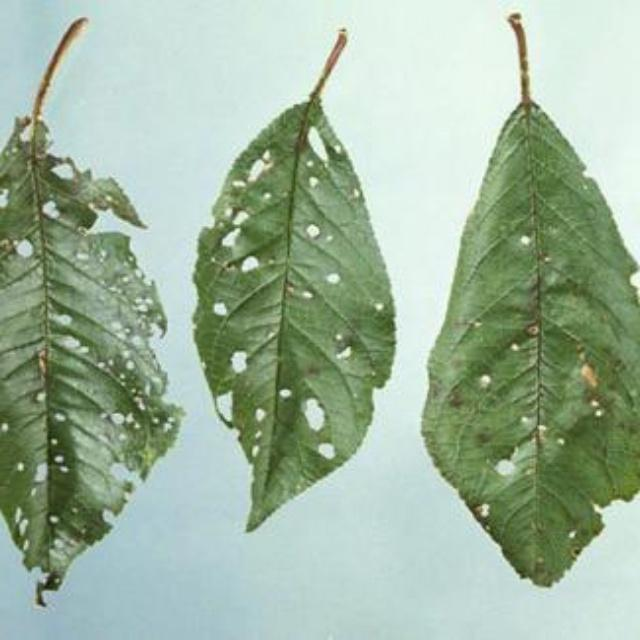shot_hole: (412, 90, 640, 615), (187, 73, 414, 598), (0, 93, 184, 618)
